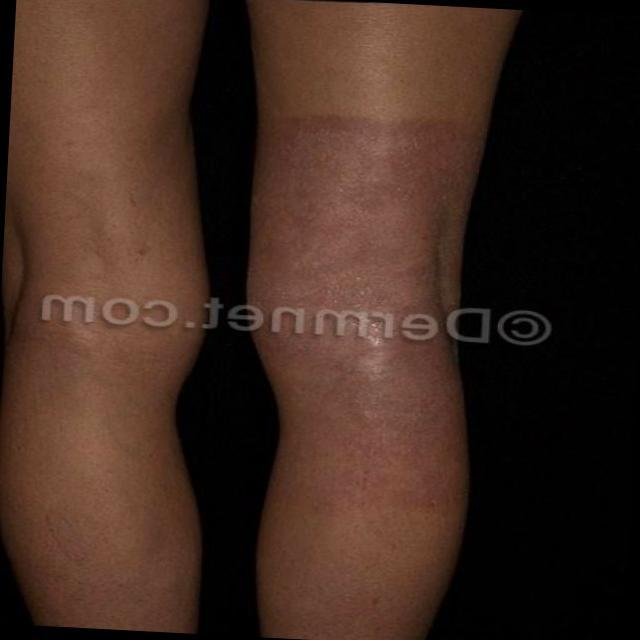Eczema: (243, 108, 485, 515)
